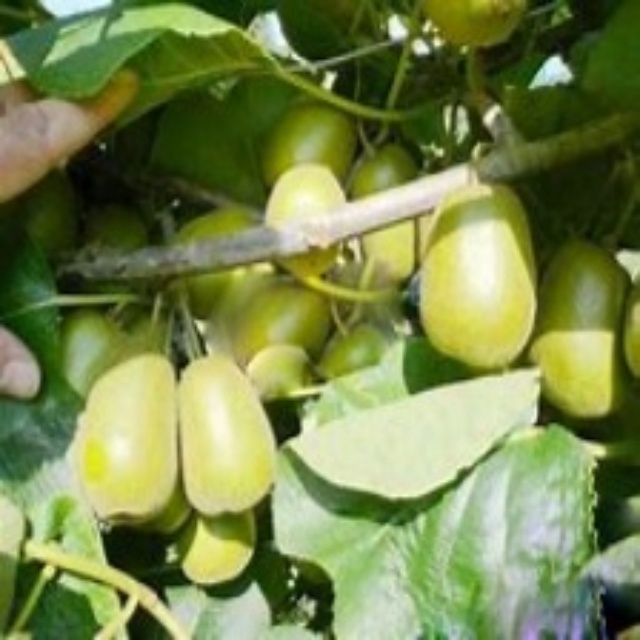kiwi: (73, 354, 272, 584), (413, 177, 531, 373), (519, 234, 639, 414)
